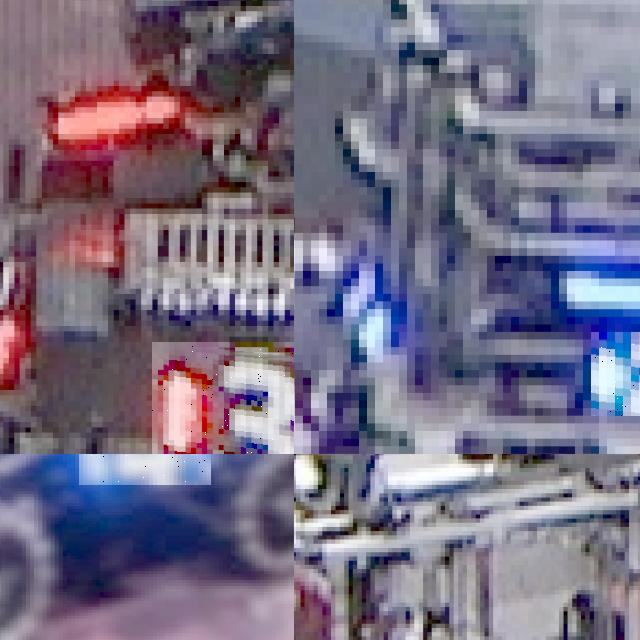B2: (591, 332, 640, 416)
B4: (79, 454, 210, 485)
R3: (152, 342, 294, 454)
